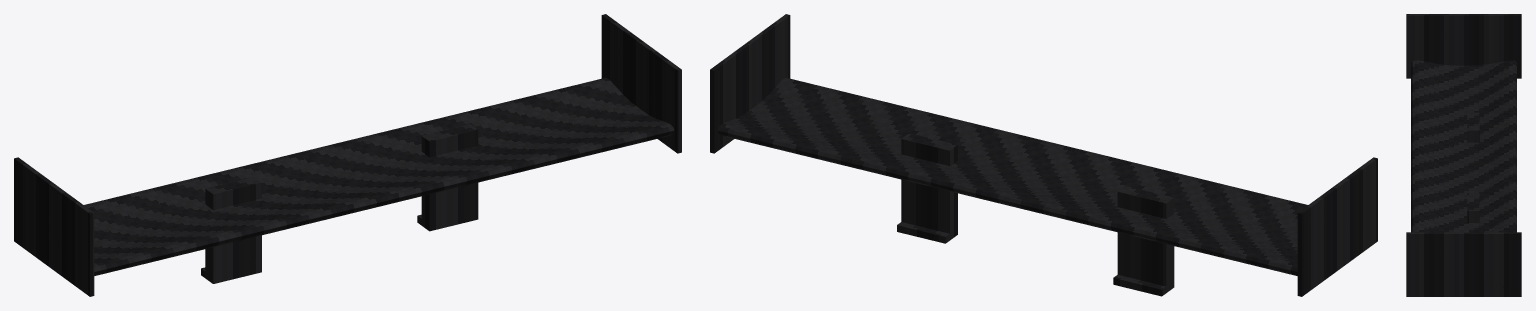
Rendered from wing_gt.obj.
3 renders of one model, left to right at view 1: azimuth 30°, elevation 25°; view 2: azimuth 150°, elevation 25°; view 3: azimuth 270°, elevation 25°, orthographic. The views are drawn at different scales.
Bounding box in the file's own units: 1.64 × 0.37 × 0.365.
1 material, 1 textured.
